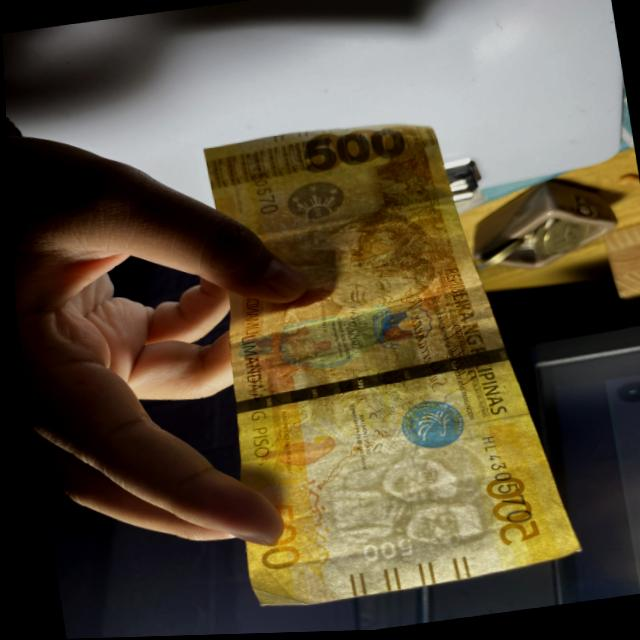500_big_parrot: (228, 295, 407, 380)
500_parrot_watermark: (252, 428, 342, 478)
value_watermark: (354, 537, 408, 569)
watermark: (309, 453, 480, 561)
